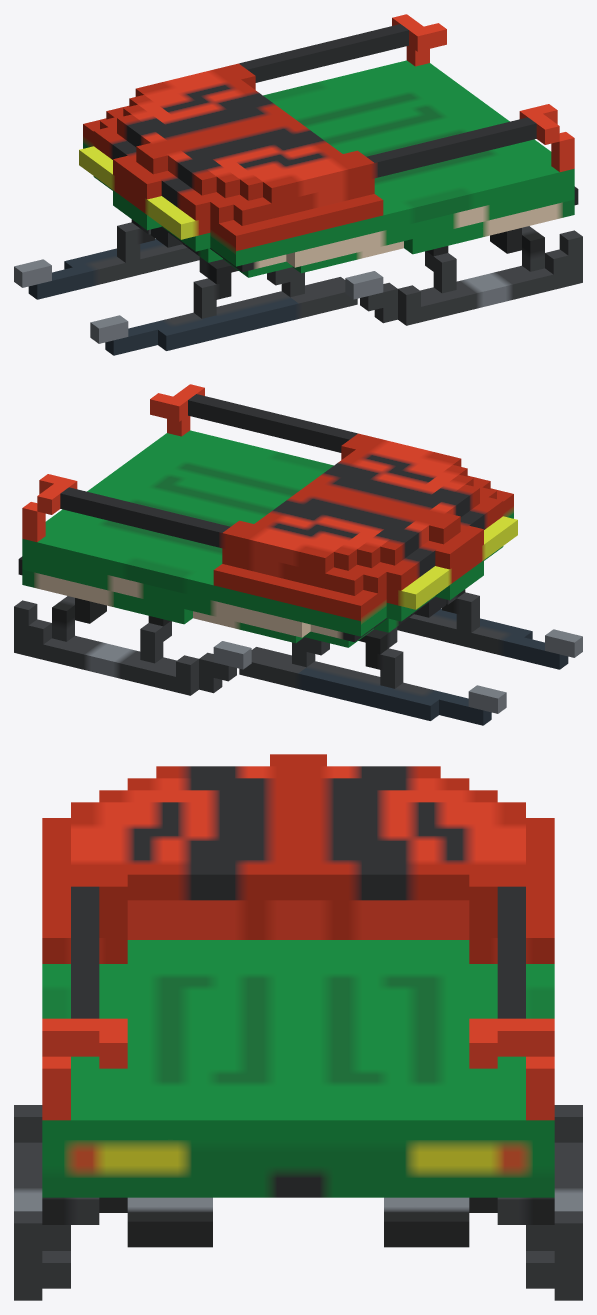
File: vehicle.fbx
3 views of the same model, one above another, from view 1: azimuth 30°, elevation 25°; view 2: azimuth 150°, elevation 25°; view 3: azimuth 270°, elevation 25° (orthographic). The views are drawn at different scales.
Parts seen in each view (by area): view 1: Matrix; view 2: Matrix; view 3: Matrix.
Boxes of the visible parts, x1,y1,x2,y2 form: Matrix: [14, 14, 582, 355]; Matrix: [14, 384, 582, 725]; Matrix: [14, 754, 582, 1300].
Size of the model in its own units: 32 by 10 by 20.
